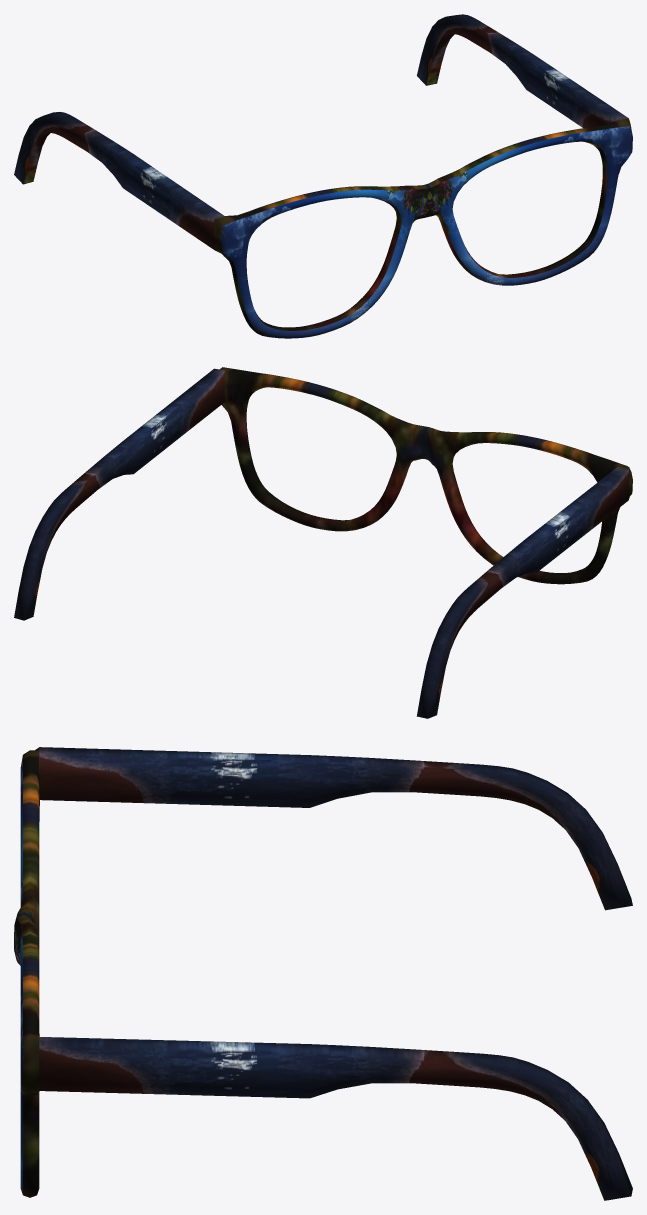
File: oculos.gltf
The picture shows the model from 3 angles, top to bottom: view 1: azimuth 30°, elevation 25°; view 2: azimuth 150°, elevation 25°; view 3: azimuth 270°, elevation 25°; orthographic projection. The views are drawn at different scales.
Parts seen in each view (by area): view 1: Glasses; view 2: Glasses; view 3: Glasses.
Part boxes in pixels (bbox=[...]): Glasses: bbox=[14, 14, 632, 338]; Glasses: bbox=[14, 367, 632, 718]; Glasses: bbox=[14, 747, 632, 1200].
Size of the model in its own units: 1.55 by 0.5073 by 1.35.
Materials: 1 (1 with a texture image).
